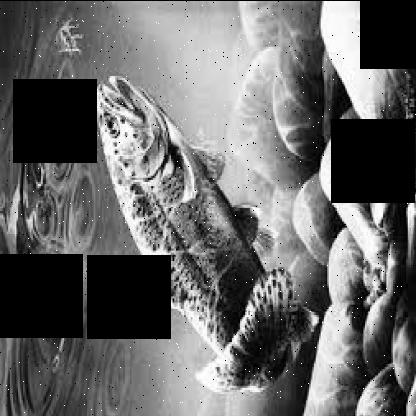fish: (94, 76, 320, 398)
